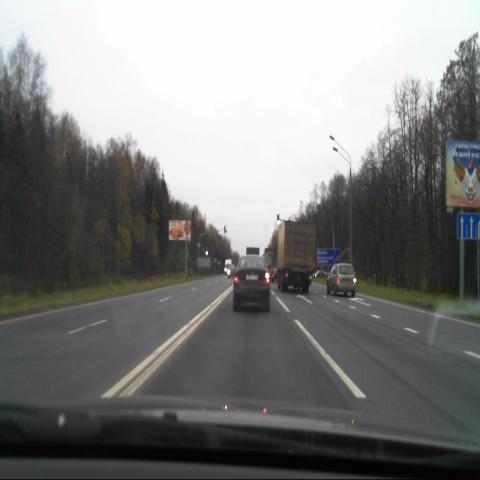5_15_1: (457, 214, 480, 240)
